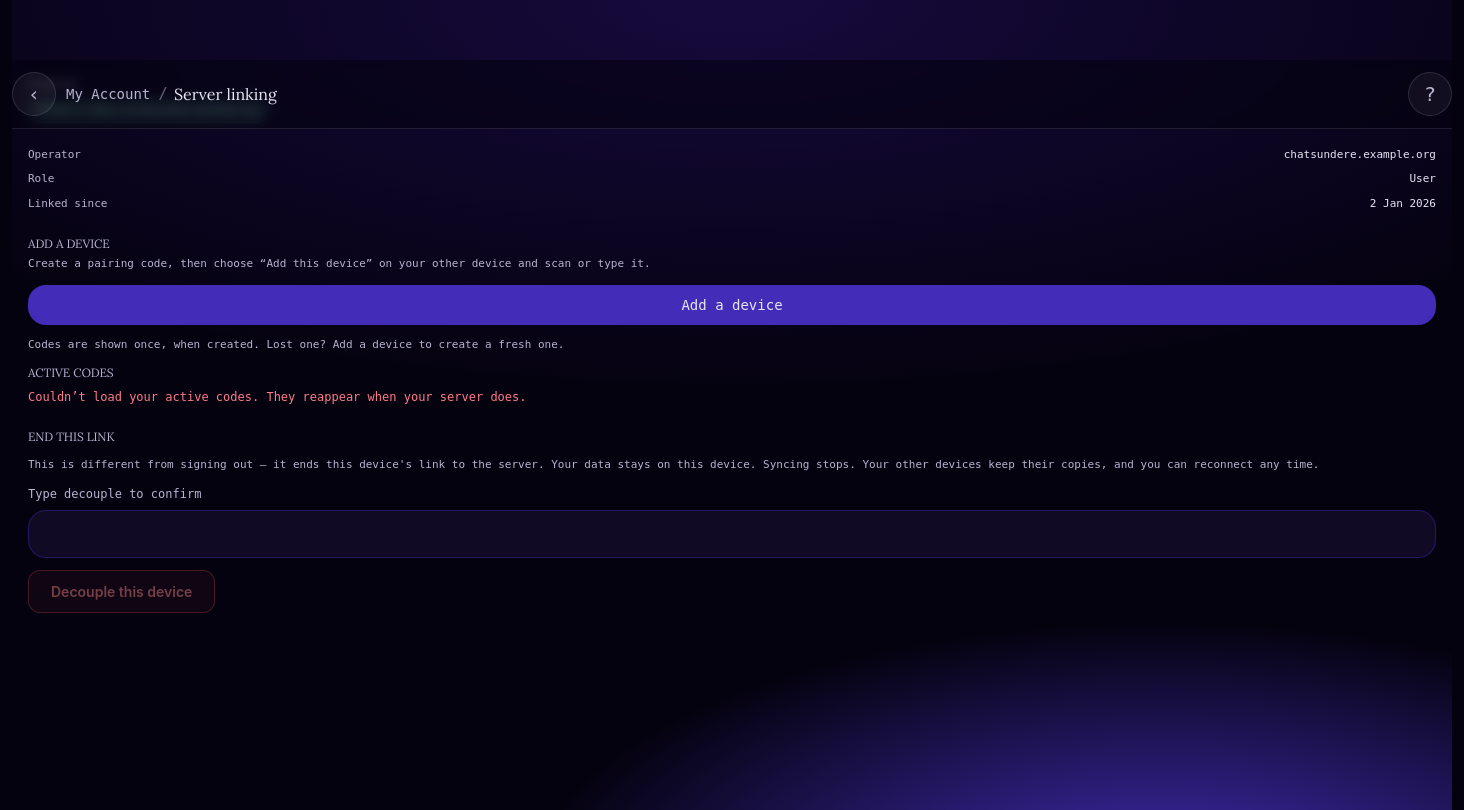
Test: ServerLinkingPage — decouple this device › retries the revoke alone with the captured base URL, and shows the success state on true
Type "decouple" into the field labelled "Type decouple to confirm".
click(732, 534); type("decouple")  # box [28, 510, 1436, 558]
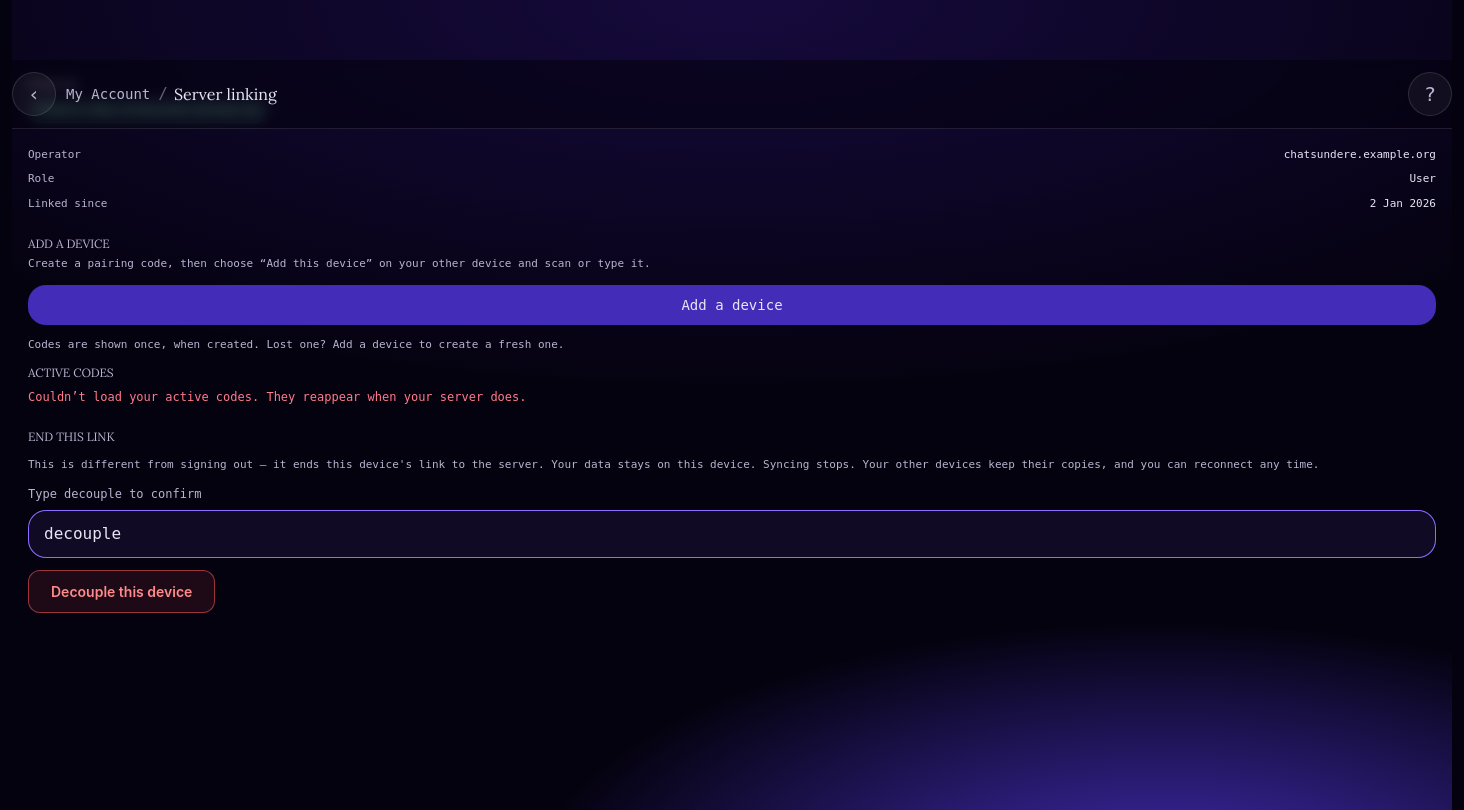
Click the button "Decouple this device".
click(122, 591)  # box [28, 570, 215, 612]
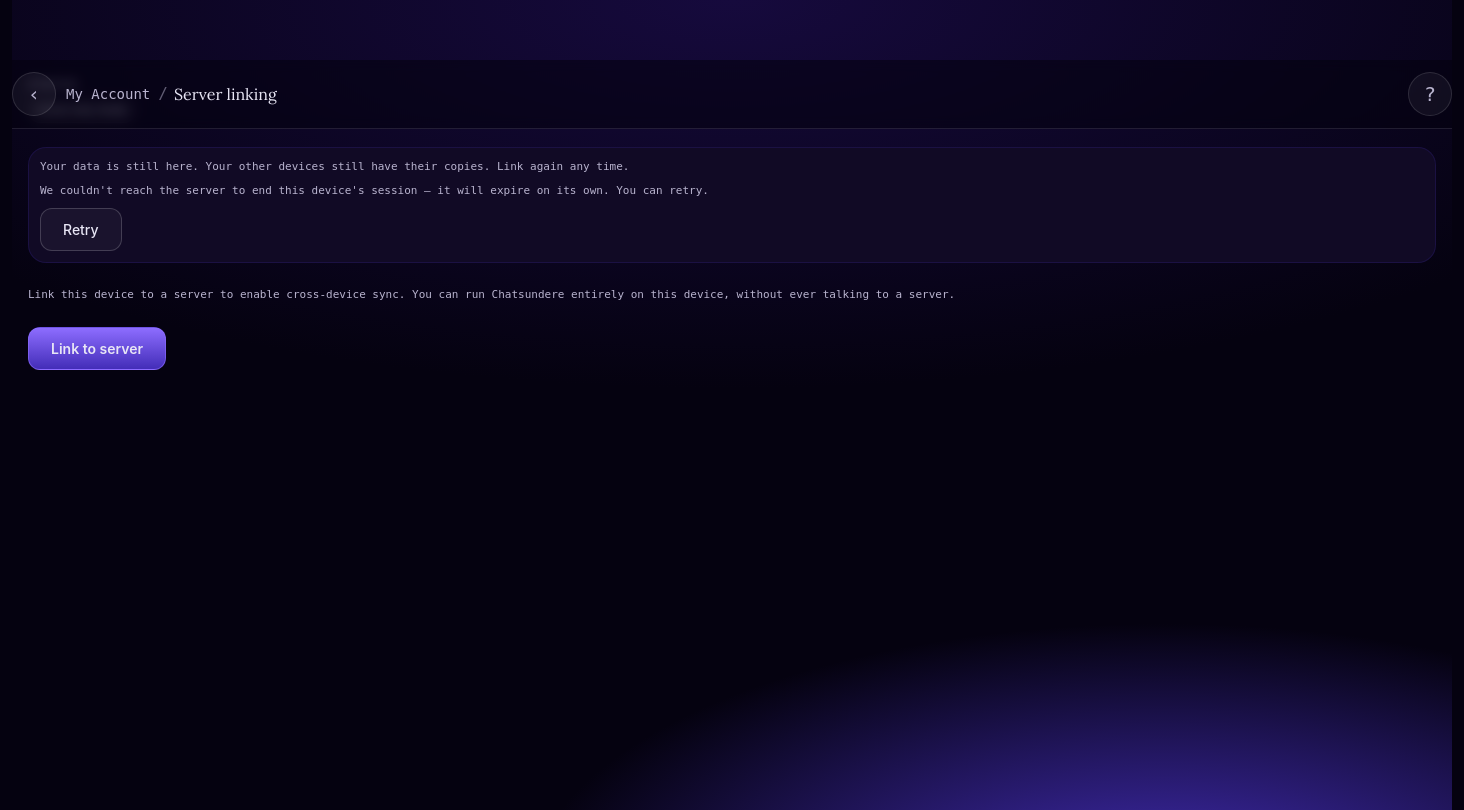
Result: the text "couldn.t reach the server" is shown at [40, 184, 709, 197]
Click the button "Retry".
click(81, 229)  # box [40, 208, 122, 250]
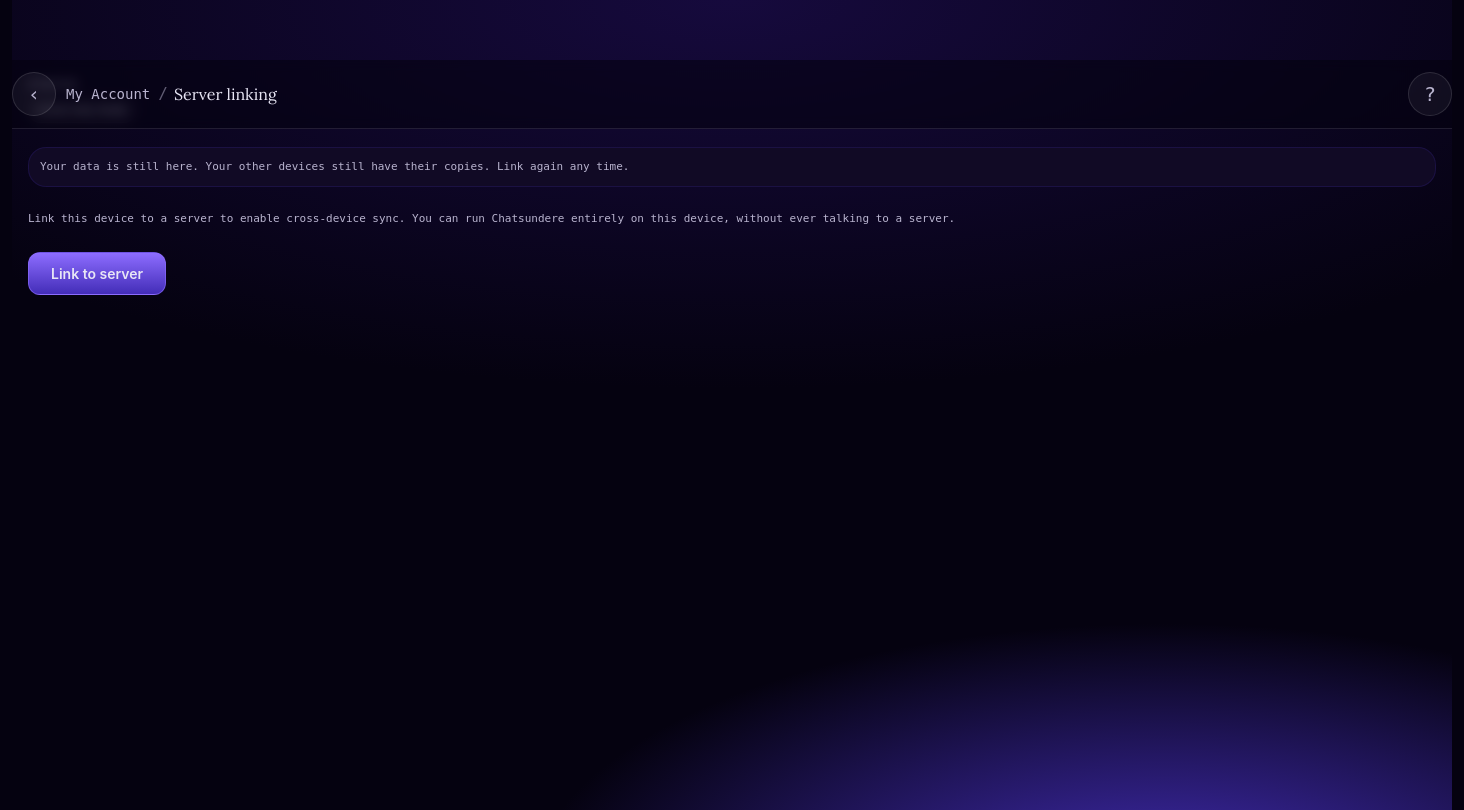
Result: the text "Your data is still here" is shown at [40, 160, 629, 172]
Result: the text "couldn.t reach the server" is gone
Result: the text "retry" is gone
